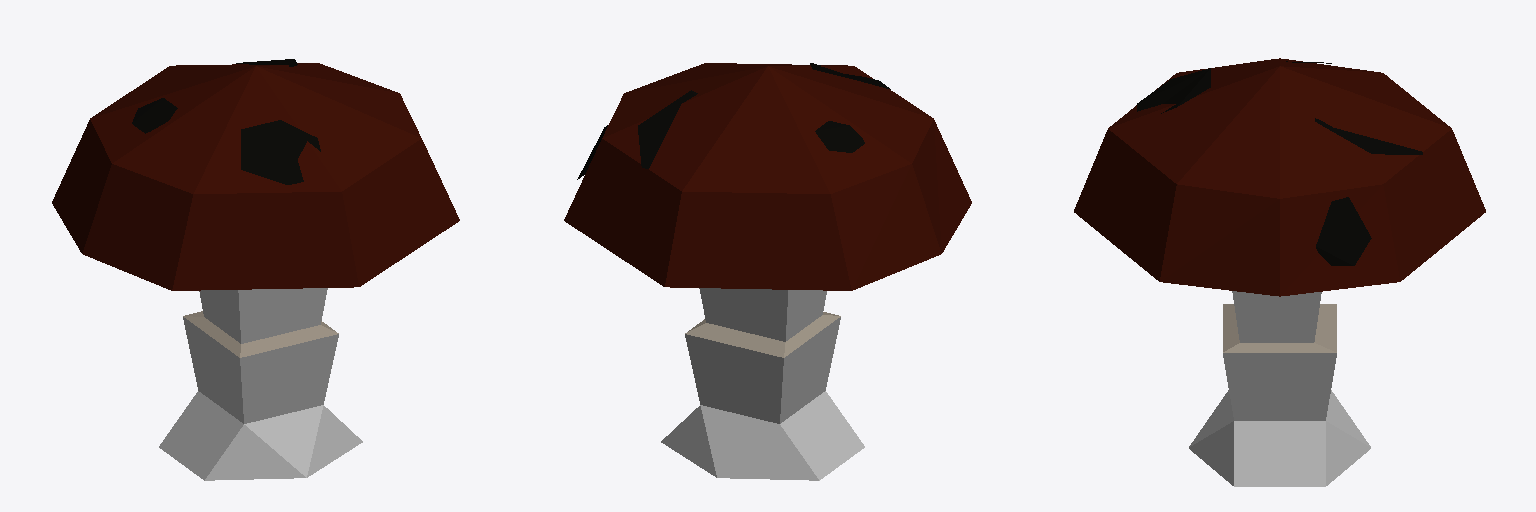
File: mushroom.obj
3 renders of one model, left to right at view 1: azimuth 30°, elevation 25°; view 2: azimuth 150°, elevation 25°; view 3: azimuth 270°, elevation 25°, orthographic.
Size of the model in its own units: 70 by 73 by 72.